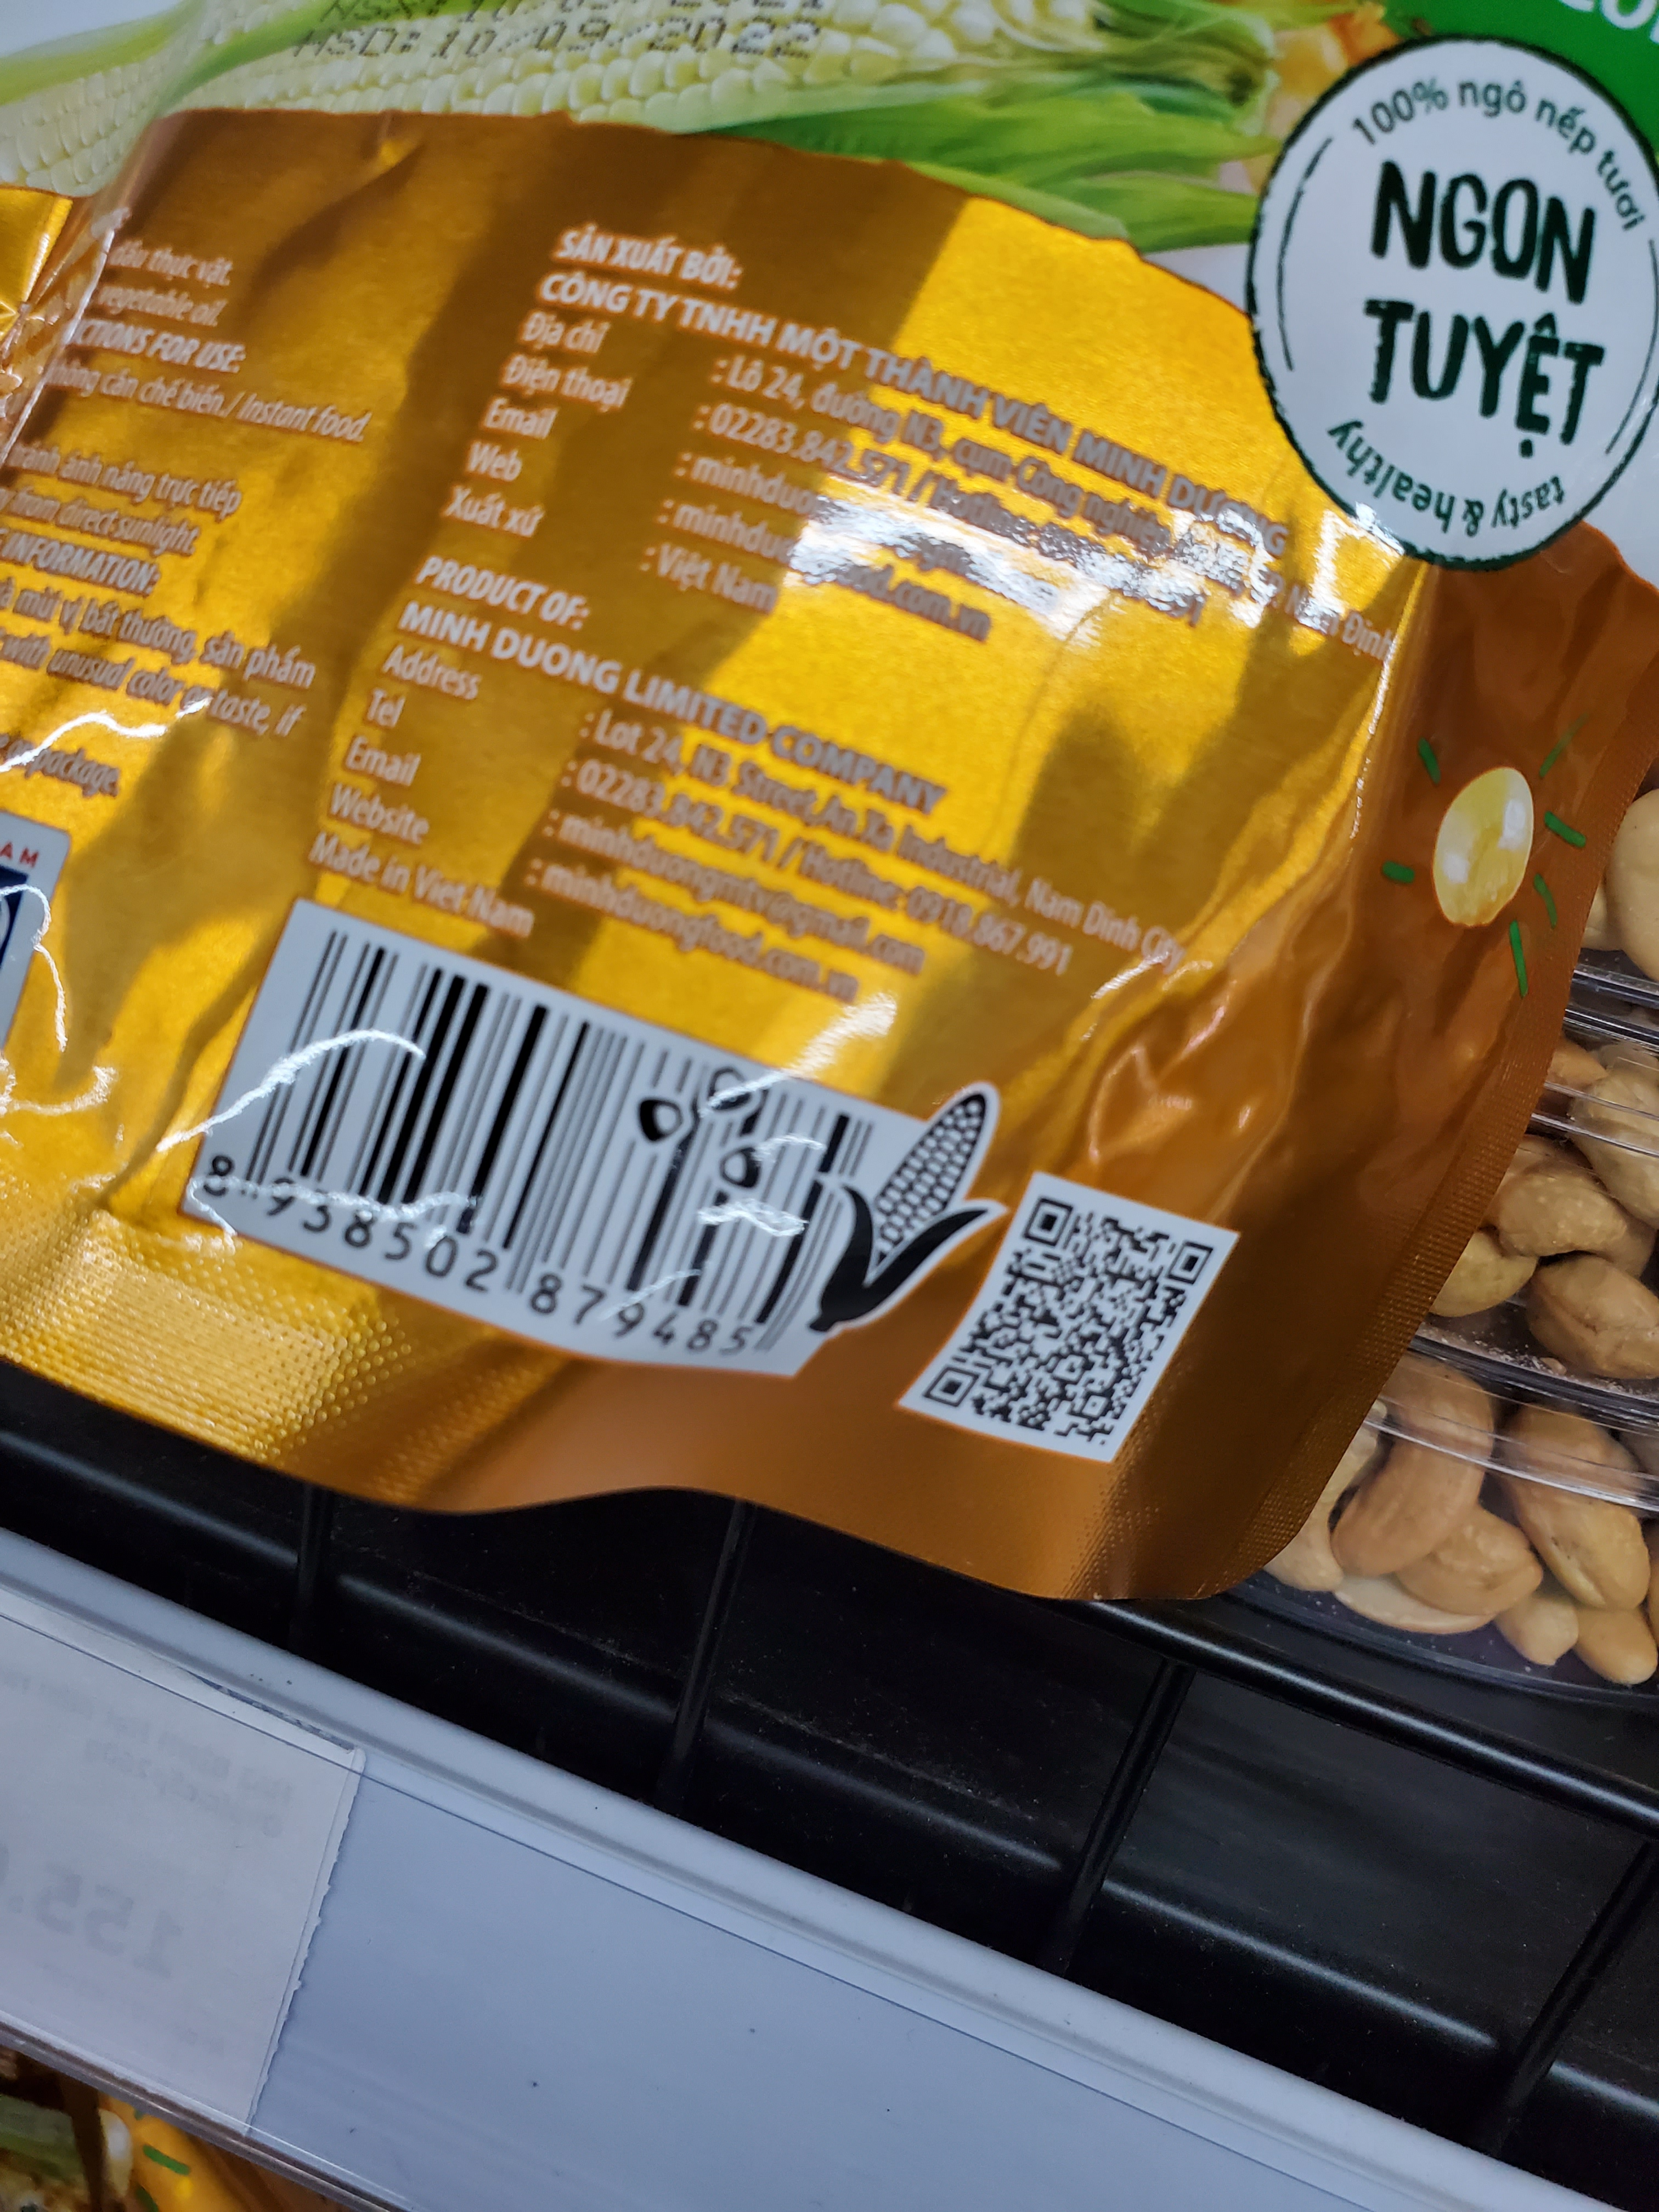BARCODE: (160, 921, 868, 1402)
QR CODE: (903, 1132, 1227, 1494)
